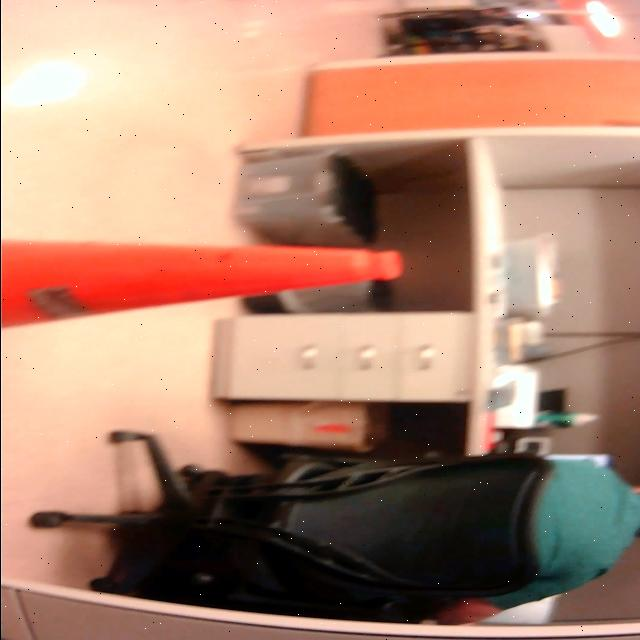traffic cone: (1, 228, 413, 336)
